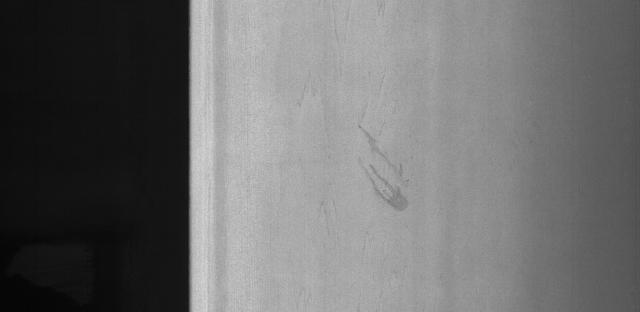water_spot: (349, 120, 437, 209)
